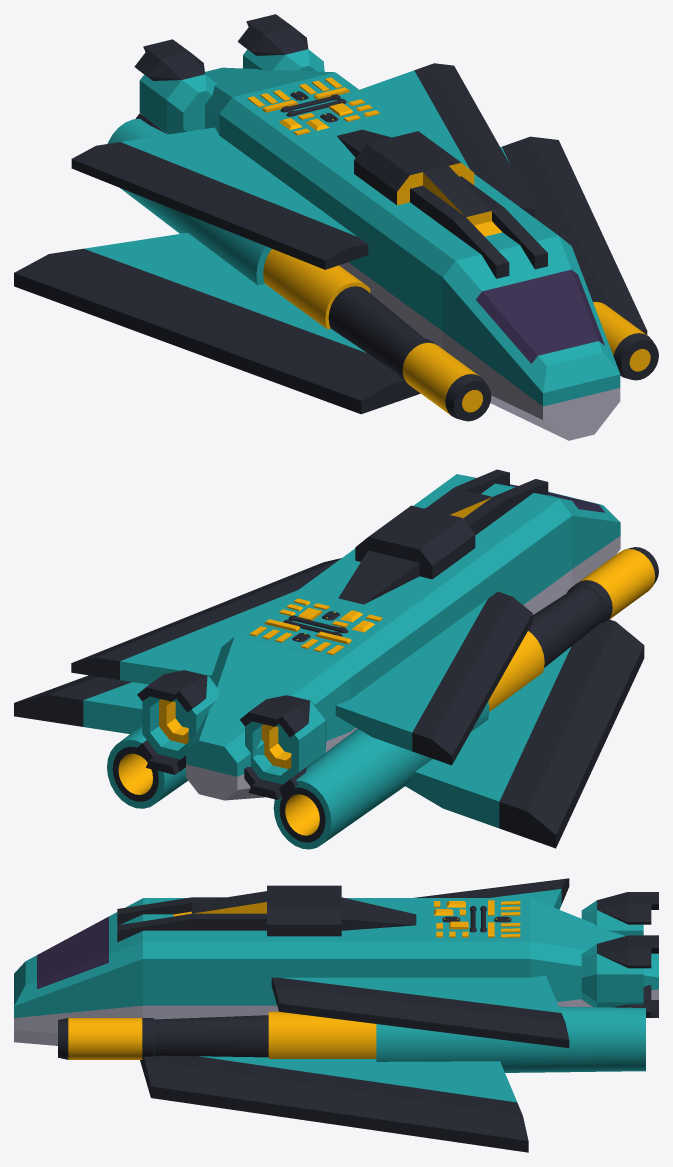
Rendered from ShipsTest.fbx.
3 renders of one model, top to bottom at view 1: azimuth 30°, elevation 25°; view 2: azimuth 150°, elevation 25°; view 3: azimuth 270°, elevation 25°, orthographic. The views are drawn at different scales.
Visible parts, largest first — view 1: mergedBlocks; view 2: mergedBlocks; view 3: mergedBlocks.
Part boxes in pixels (x1,y1,x2,y2): mergedBlocks: (14, 14, 658, 440); mergedBlocks: (14, 469, 658, 849); mergedBlocks: (14, 878, 658, 1152).
Bounding box in the file's own units: 0.4225 × 0.12 × 0.5.
